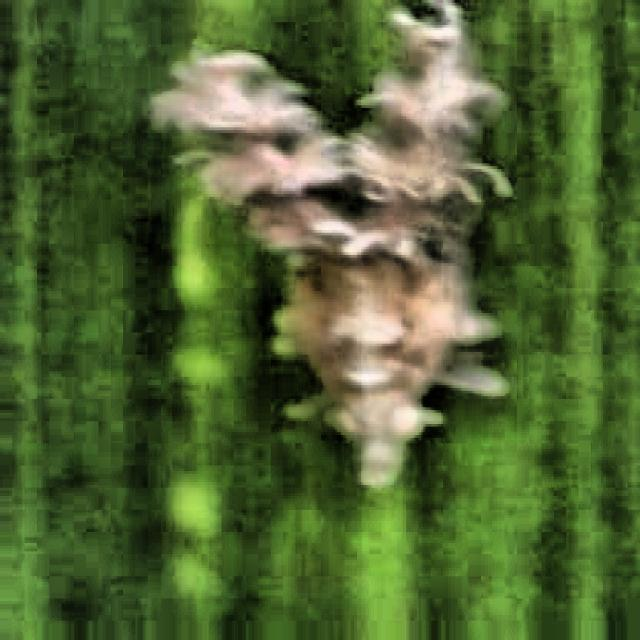Pyrilla-perpusilla: (117, 8, 547, 564)
